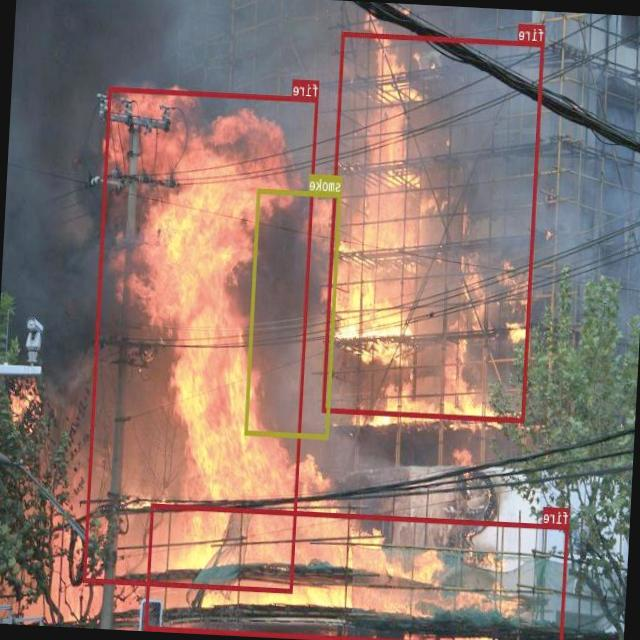fire: (83, 87, 320, 592), (322, 31, 546, 422), (145, 502, 569, 640)
smoke: (245, 188, 342, 438)
